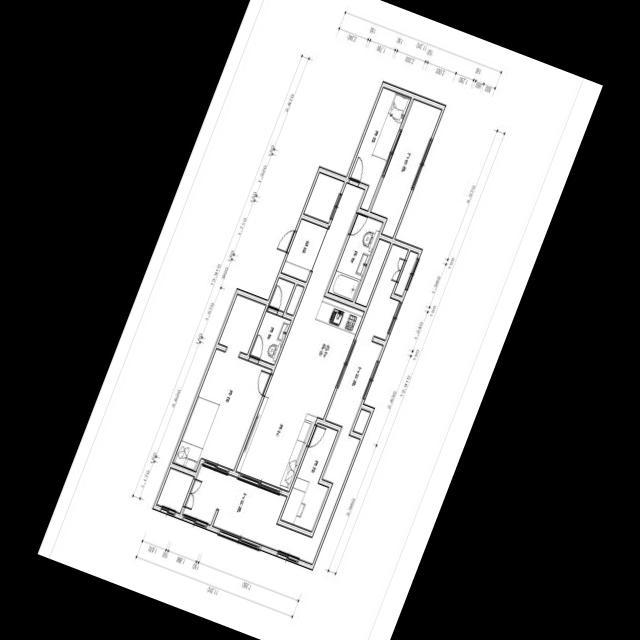background: (37, 0, 603, 640)
space_balconi: (183, 244, 408, 564), (371, 99, 442, 238)
space_bedroom: (173, 348, 272, 472), (349, 87, 412, 211), (281, 423, 338, 531)
space_dressroom: (219, 294, 266, 357)
space_front: (281, 219, 329, 281)
space_kitchen: (282, 296, 364, 419)
space_living_room: (236, 182, 365, 491)
space_other: (355, 239, 391, 306), (304, 172, 344, 223), (157, 468, 194, 513), (394, 251, 418, 296), (269, 278, 295, 312), (286, 285, 304, 315), (353, 409, 370, 434)
space_toilet: (328, 214, 383, 301), (250, 311, 291, 364)
